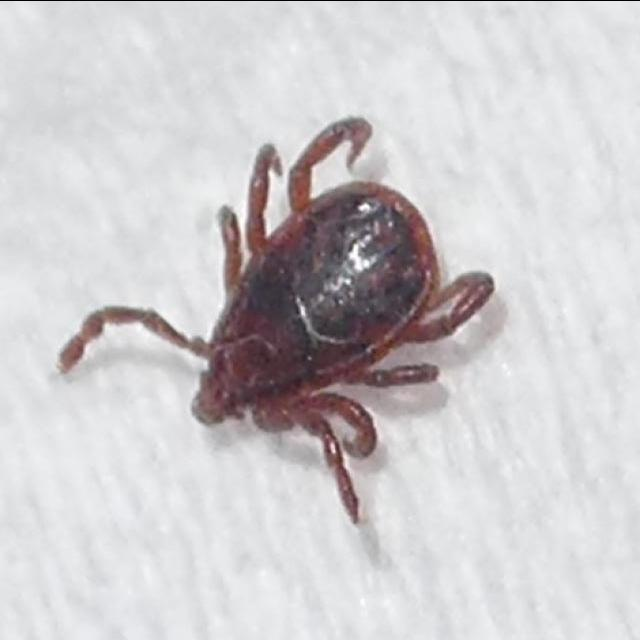Rhipicephalus Sanguineus-M: (59, 116, 497, 527)
